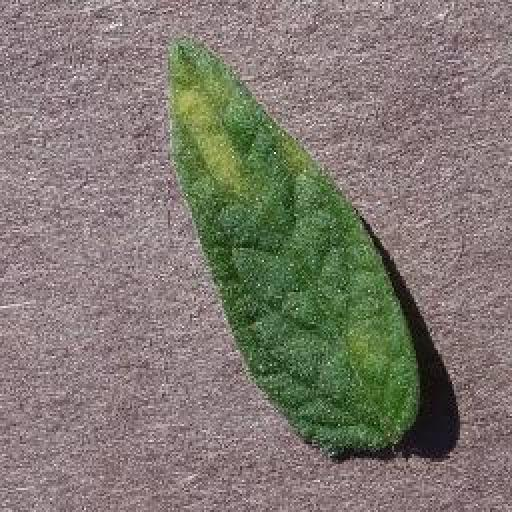Leaf Mold: (164, 35, 423, 457)
